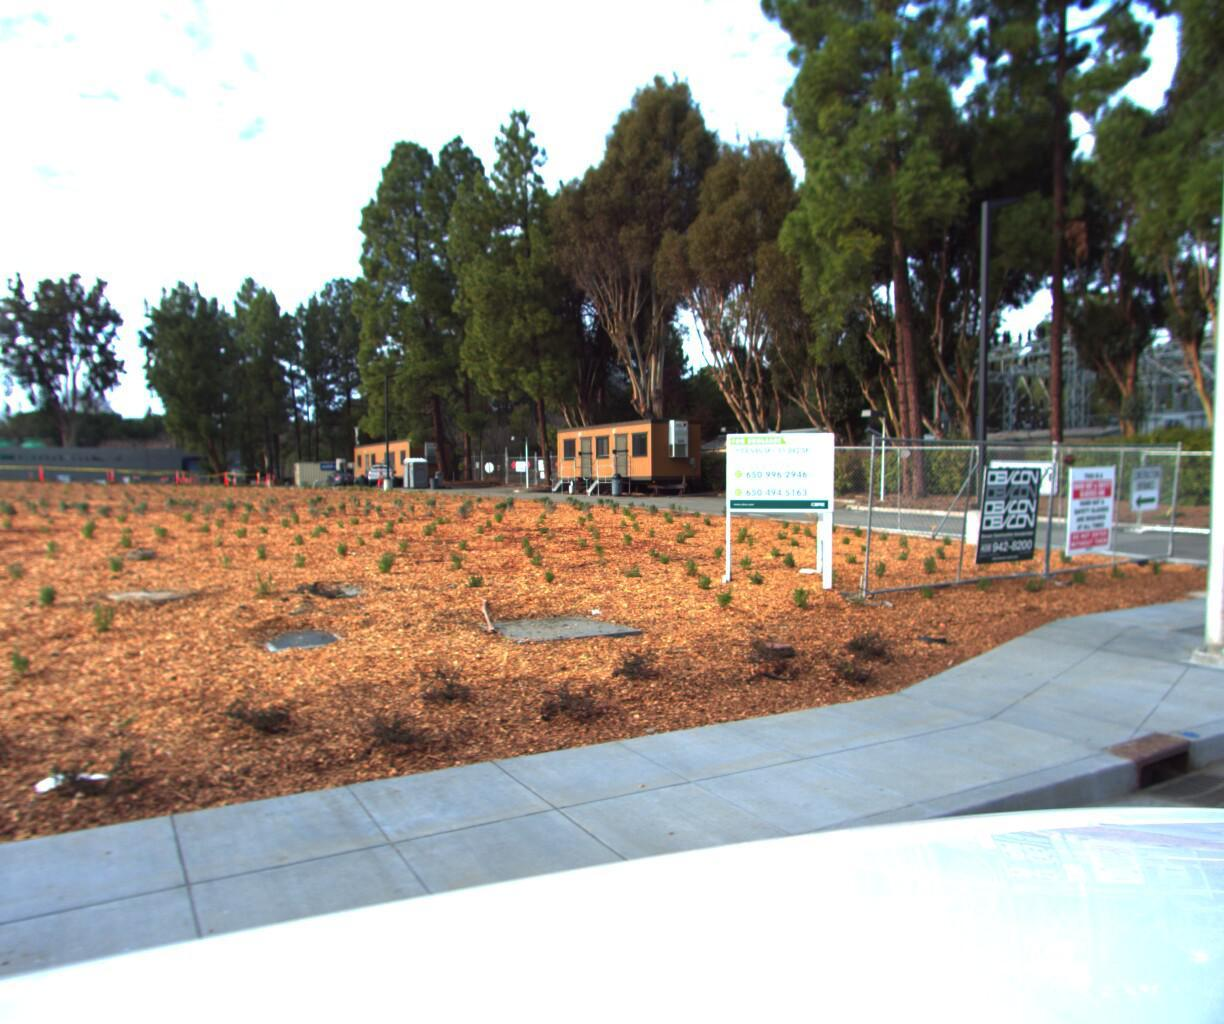car: (363, 463, 395, 488), (333, 469, 355, 486)
